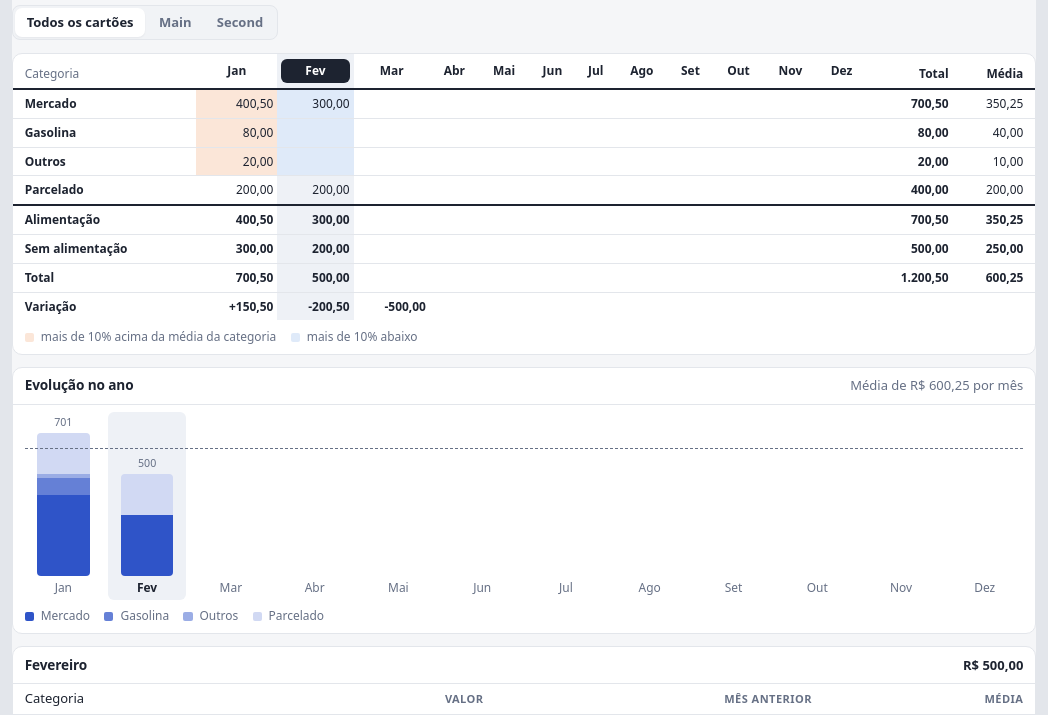
Test case: SpendingPage › details another month when its bar or its column is clicked
Click the button "701 Jan". click: (63, 506)
box: [25,412,102,600]
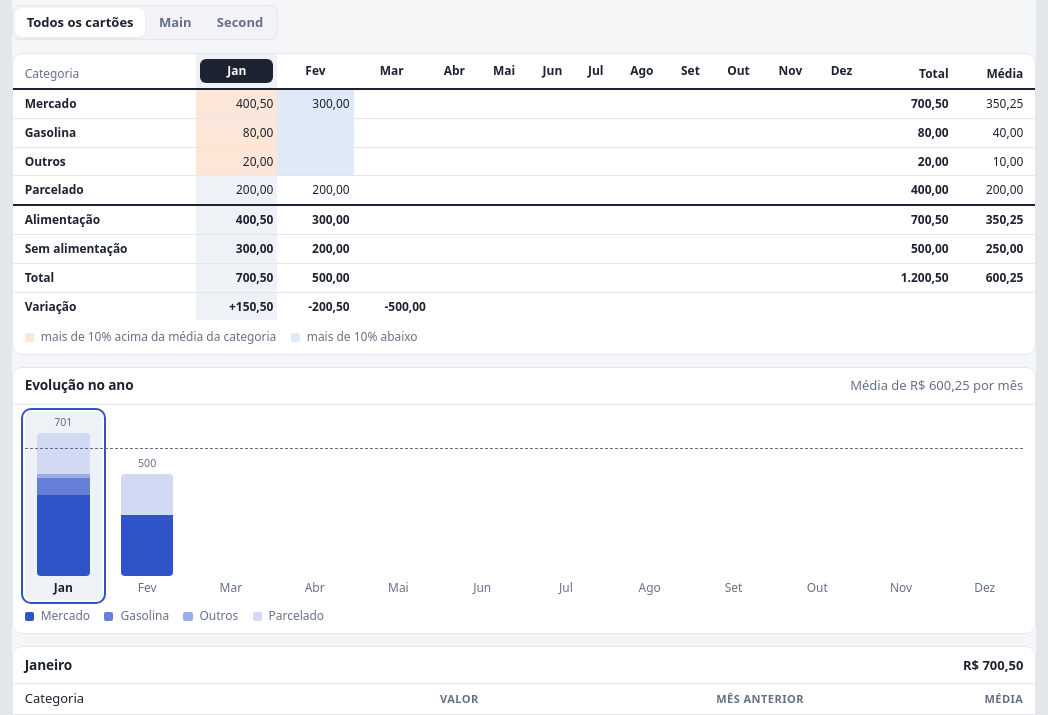
Click the button with aria-label "Fevereiro". click: (315, 71)
box: [281,59,350,83]
(page scrolled)
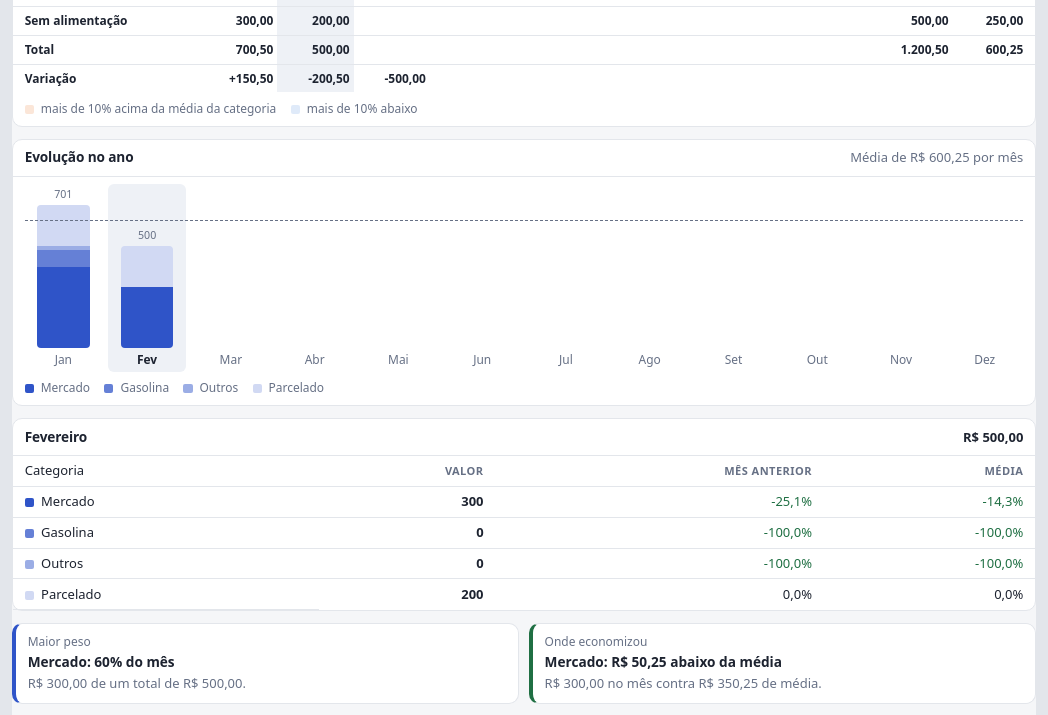
expect the element named "Detalhe de fevereiro" is shown: met, box [12,418,1036,611]
